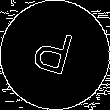P_S: (31, 26, 79, 84)
